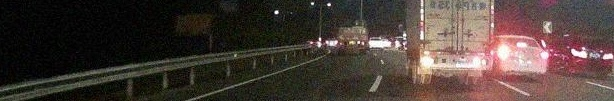L_light: (497, 47, 511, 56)
R_light: (539, 51, 547, 58)
T_light: (517, 42, 526, 46)
night-brake: (497, 35, 547, 81)
